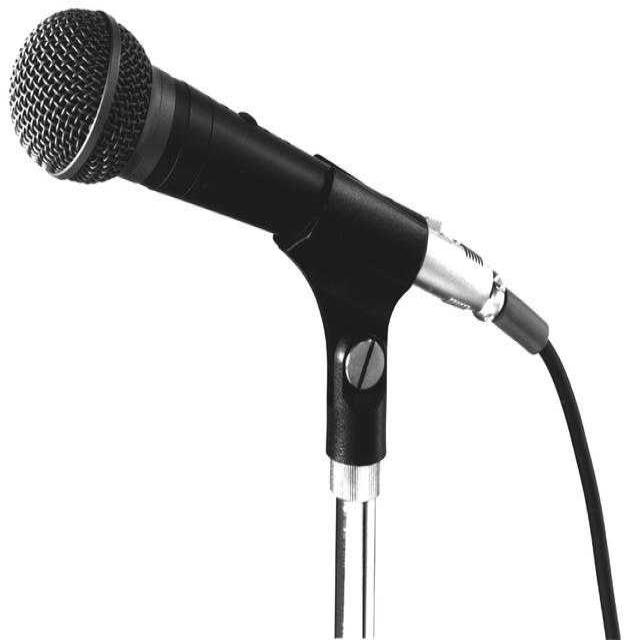microphone: (92, 418, 613, 628)
